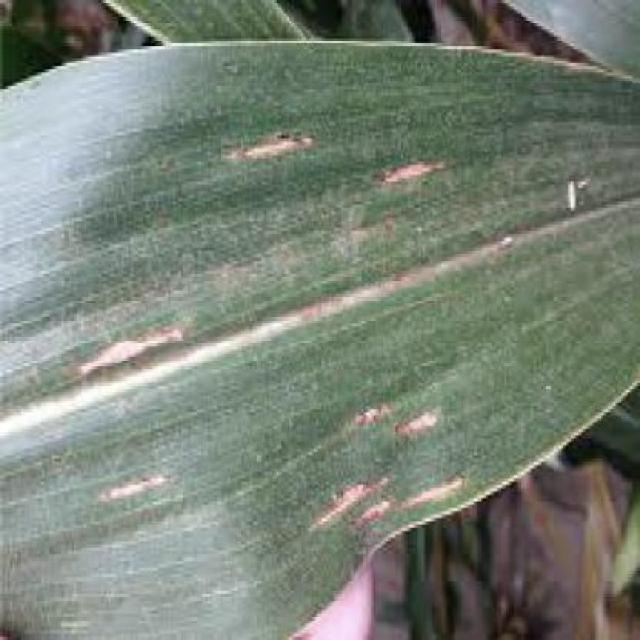Corn_Grey_Leaf_Spot: (72, 66, 517, 577)
